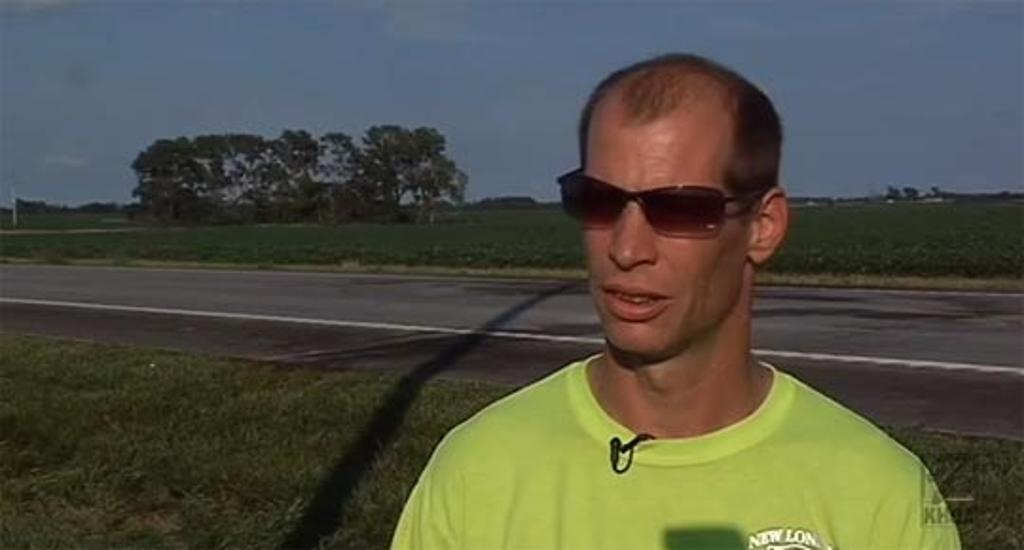face: (584, 106, 748, 356)
